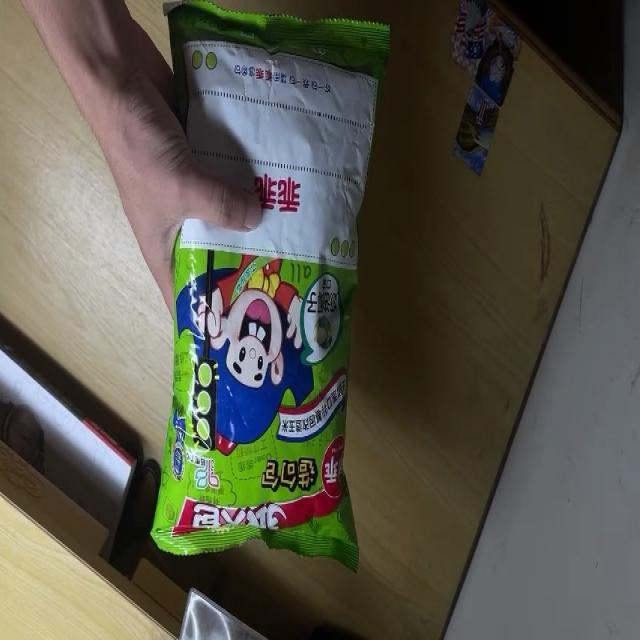Good-Luck: (152, 0, 390, 575)
